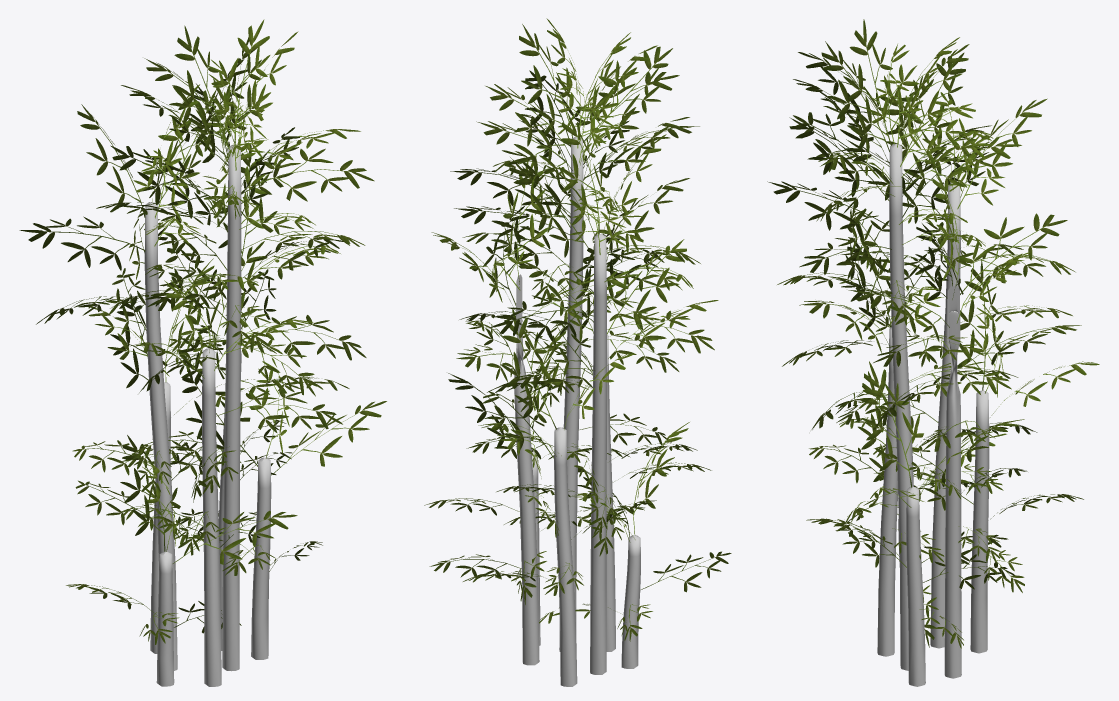
File: bamboo.fbx
3 views of the same model, side by side, from view 1: azimuth 30°, elevation 25°; view 2: azimuth 150°, elevation 25°; view 3: azimuth 270°, elevation 25° (orthographic). The views are drawn at different scales.
Parts seen in each view (by area): view 1: bamboo branch_1, plant02_0; view 2: bamboo branch_1, plant02_0; view 3: bamboo branch_1, plant02_0.
Part boxes in pixels (left/top/right/bottom): bamboo branch_1: left=19, top=19, right=386, bottom=644; plant02_0: left=144, top=144, right=271, bottom=686; bamboo branch_1: left=424, top=18, right=731, bottom=641; plant02_0: left=514, top=137, right=640, bottom=686; bamboo branch_1: left=767, top=19, right=1099, bottom=648; plant02_0: left=877, top=144, right=989, bottom=686.
Size of the model in its own units: 129 by 247 by 120.
1 material, 1 textured.
